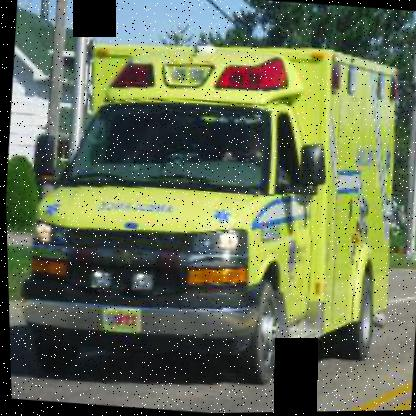emergency: (6, 21, 414, 402)
